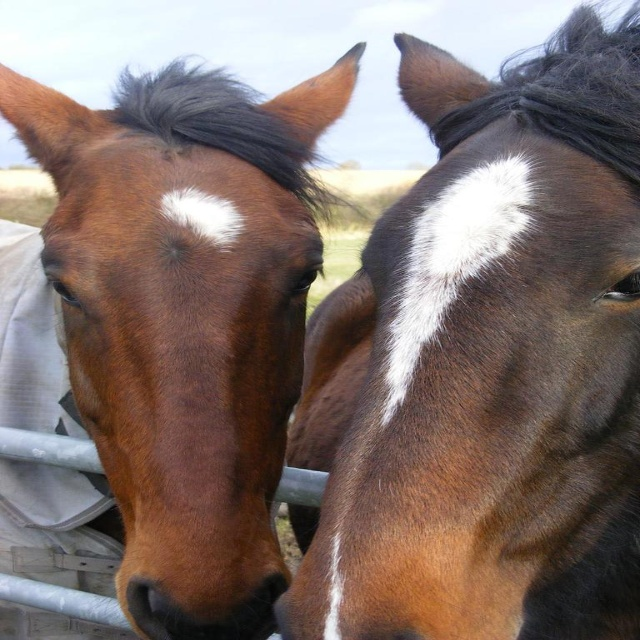Mule: (270, 0, 640, 640), (0, 42, 368, 640)
